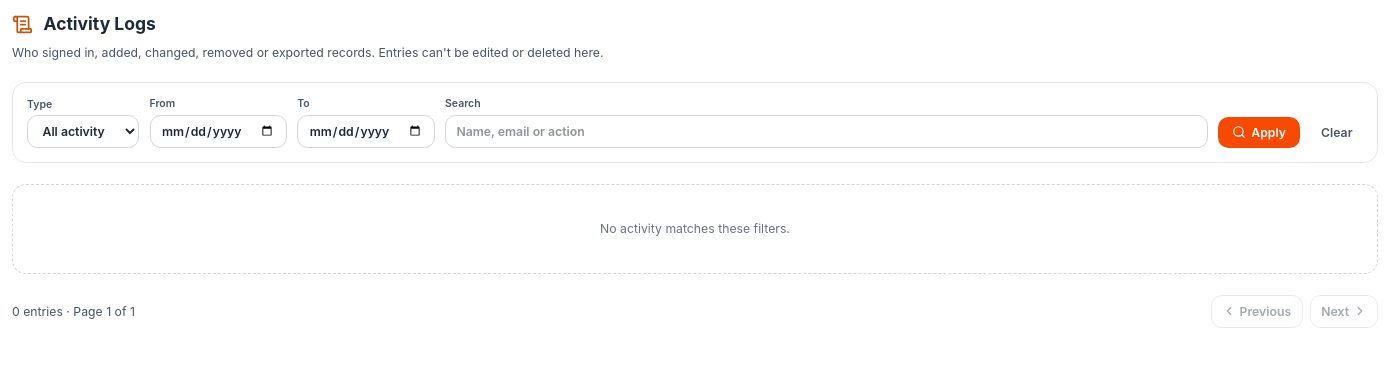
Test: ActivityLogs panel › won't apply a backwards date range
This screenshot has width=1390, height=370.
Check: the text "No activity matches these filters." is shown, box [12,184,1378,274]
Type "2026-10-12" into the date field labelled "From".
click(218, 131); type("2026-10-12")  # box [150,114,287,148]
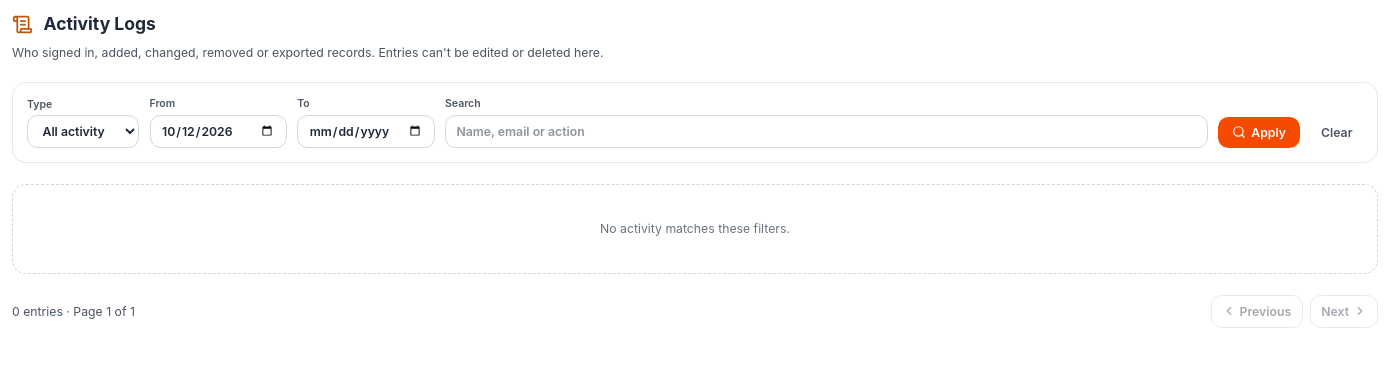
Type "2026-10-01" into the date field labelled "To".
click(366, 131); type("2026-10-01")  # box [297,114,435,148]
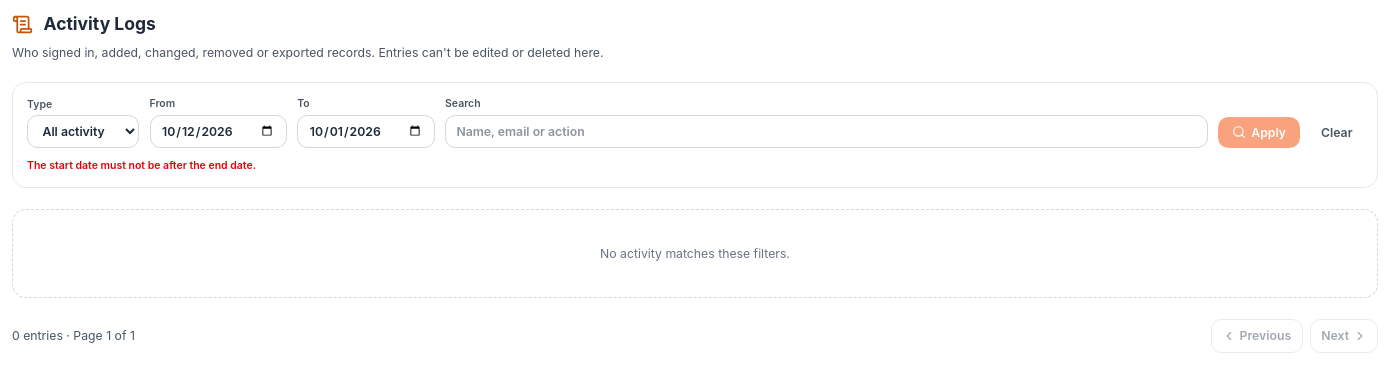
Check: the message shows "must not be after", box [27,158,256,172]
Check: the button "Apply" is disabled, box [1218,116,1300,148]
